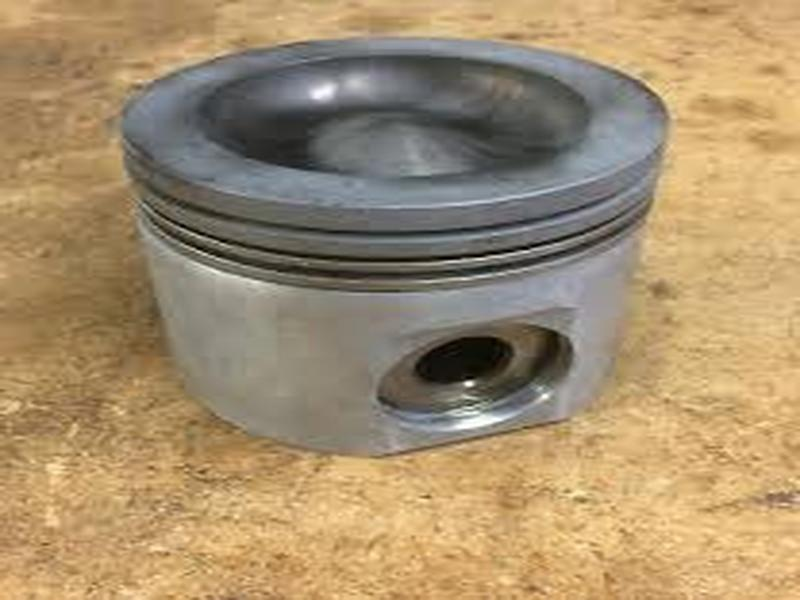piston: (111, 27, 682, 459)
